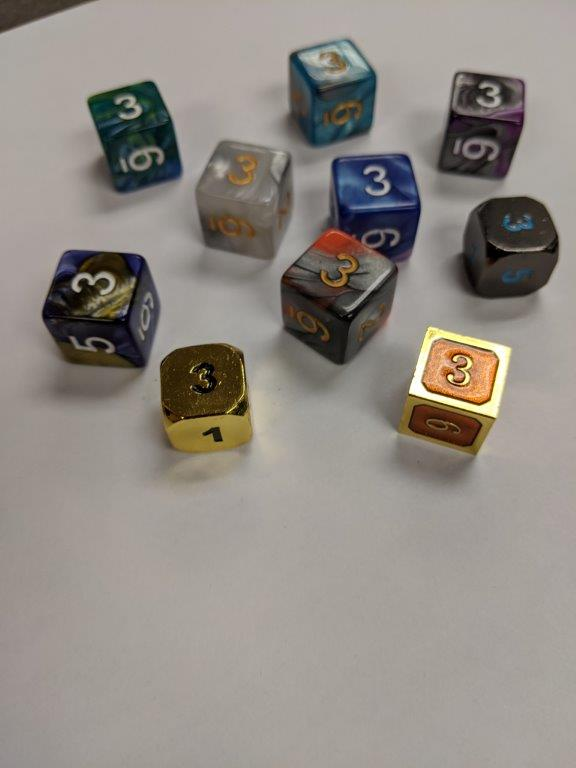d6-3: (39, 248, 160, 377), (282, 232, 398, 364), (397, 324, 508, 458), (195, 140, 294, 260), (88, 78, 183, 199), (433, 68, 528, 182), (329, 147, 422, 263), (159, 342, 254, 452), (290, 36, 377, 148)
